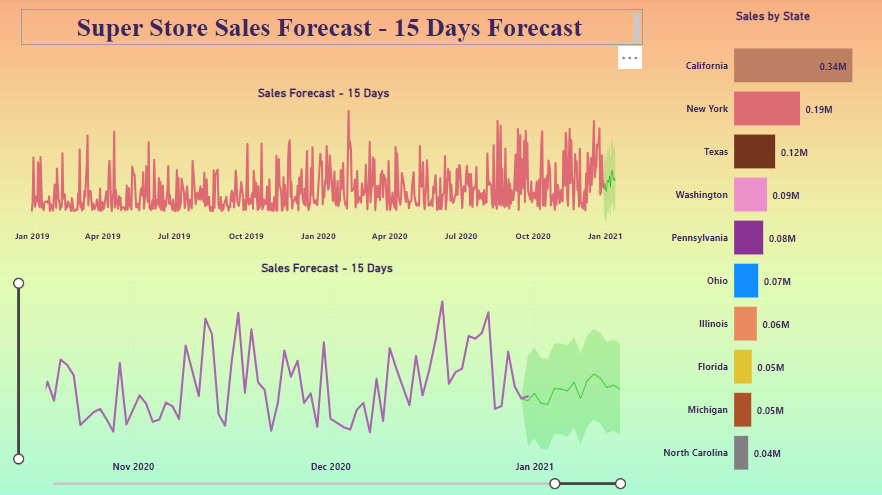

The page's visual inventory and layout, read from the dashboard file:
{"tool":"powerbi","page":{"name":"Sales Forecast","canvas":[1280,720],"ordinal":1},"visuals":[{"type":"lineChart","title":"Sales Forecast - 15 Days","fields":{"Y":["Sum(SuperStore_Sales_Dataset.Sales)"],"Category":["SuperStore_Sales_Dataset.Order Dates"]},"box":[20.1,126.5,898.2,234.3],"z":0},{"type":"lineChart","title":"Sales Forecast - 15 Days","fields":{"Y":["Sum(SuperStore_Sales_Dataset.Sales)"],"Category":["SuperStore_Sales_Dataset.Order Dates"]},"box":[20.1,378,908.3,330.5],"z":1000},{"type":"clusteredBarChart","title":"Sales by State","fields":{"Category":["SuperStore_Sales_Dataset.State"],"Y":["Sum(SuperStore_Sales_Dataset.Sales)"]},"box":[951.4,15.8,327.7,692.7],"z":2000},{"type":"textbox","box":[34.5,15.8,893.9,51.7],"z":3000}]}

Visuals, with their boxes in screenshot pixels (x1, y1, x2, y2), scaled from the page's 1280x720 canvas onto the 882x495 screenshot:
"Sales Forecast - 15 Days" lineChart: <bbox>14, 87, 633, 248</bbox>
"Sales Forecast - 15 Days" lineChart: <bbox>14, 260, 640, 487</bbox>
"Sales by State" clusteredBarChart: <bbox>656, 11, 881, 487</bbox>
textbox: <bbox>24, 11, 640, 46</bbox>
